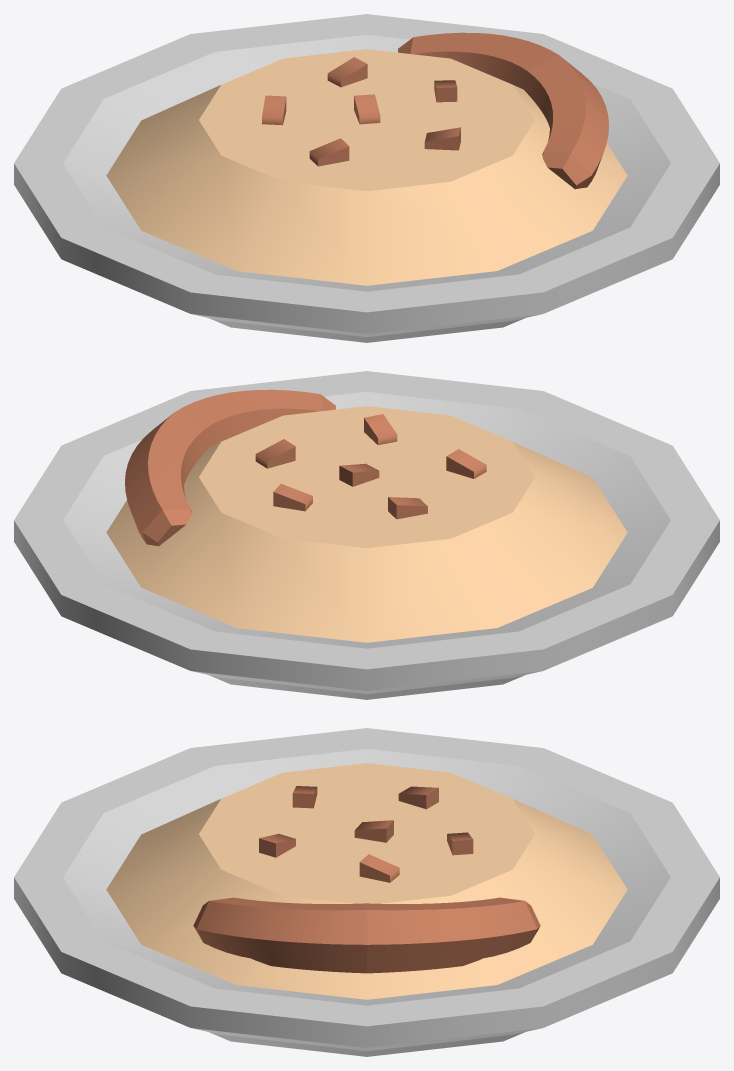
File: plateSauerkraut.fbx
3 views of the same model, one above another, from view 1: azimuth 30°, elevation 25°; view 2: azimuth 150°, elevation 25°; view 3: azimuth 270°, elevation 25° (orthographic).
Visible parts, largest first — view 1: plateSauerkraut, sausage; view 2: plateSauerkraut, sausage; view 3: plateSauerkraut, sausage.
Boxes of the visible parts, x1,y1,x2,y2 form: plateSauerkraut: (14, 14, 719, 342); sausage: (398, 32, 608, 189); plateSauerkraut: (14, 371, 719, 699); sausage: (125, 389, 335, 546); plateSauerkraut: (14, 728, 719, 1056); sausage: (193, 897, 540, 973).
Size of the model in its own units: 8.92 by 1.75 by 8.92.
